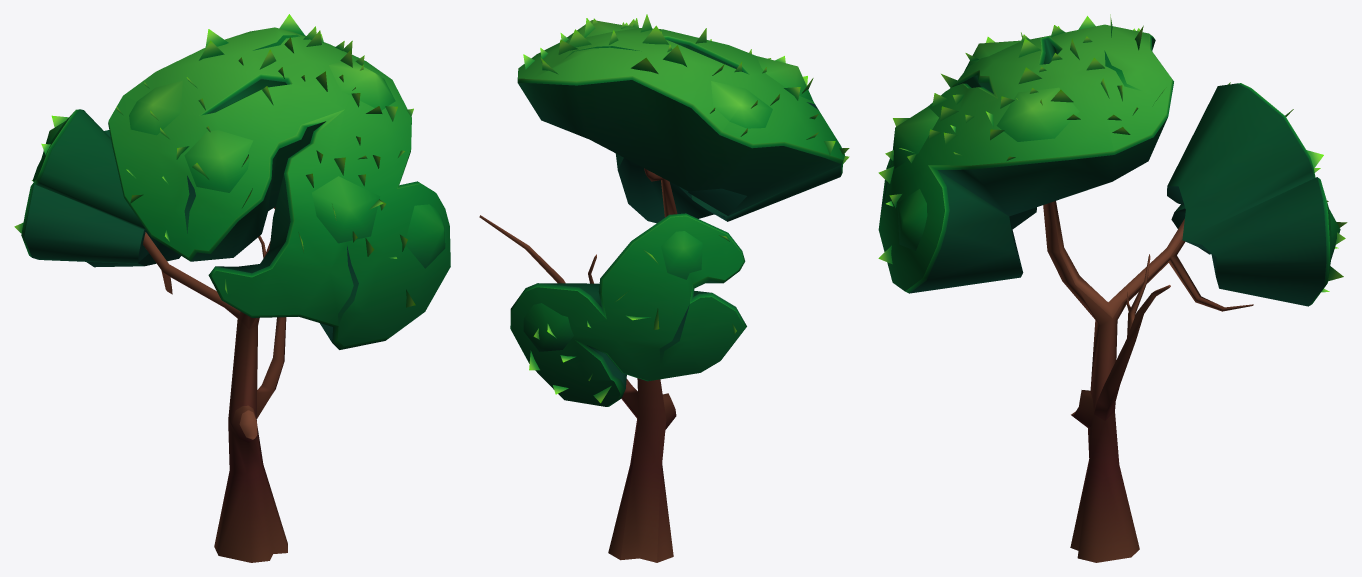
The model's file is Tree_2B.fbx.
The picture shows the model from 3 angles, left to right: view 1: azimuth 30°, elevation 25°; view 2: azimuth 150°, elevation 25°; view 3: azimuth 270°, elevation 25°; orthographic projection.
Visible parts, largest first — view 1: Tree_2B; view 2: Tree_2B; view 3: Tree_2B.
Part boxes in pixels (x1,y1,x2,y2): Tree_2B: (14, 14, 450, 562); Tree_2B: (479, 14, 849, 562); Tree_2B: (878, 14, 1347, 562).
Bounding box in the file's own units: 5.99 × 9.93 × 8.2.
